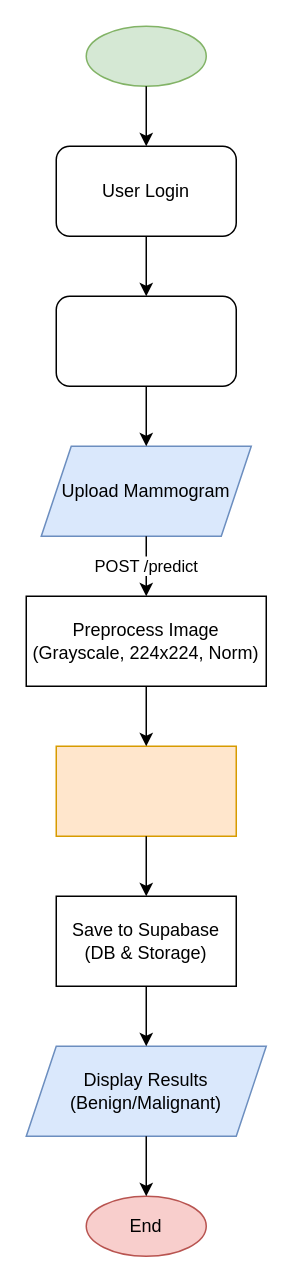
Some shapes in this 293 by 1283 pixel diagram are drawn without their labels. The shapes that lost their labels are listed below. From the top down, each one's centre as x and y in pixels, then its label:
At (145,55): "Start".
At (145,340): "Access Dashboard".
At (145,790): "ViT Model Inference".
